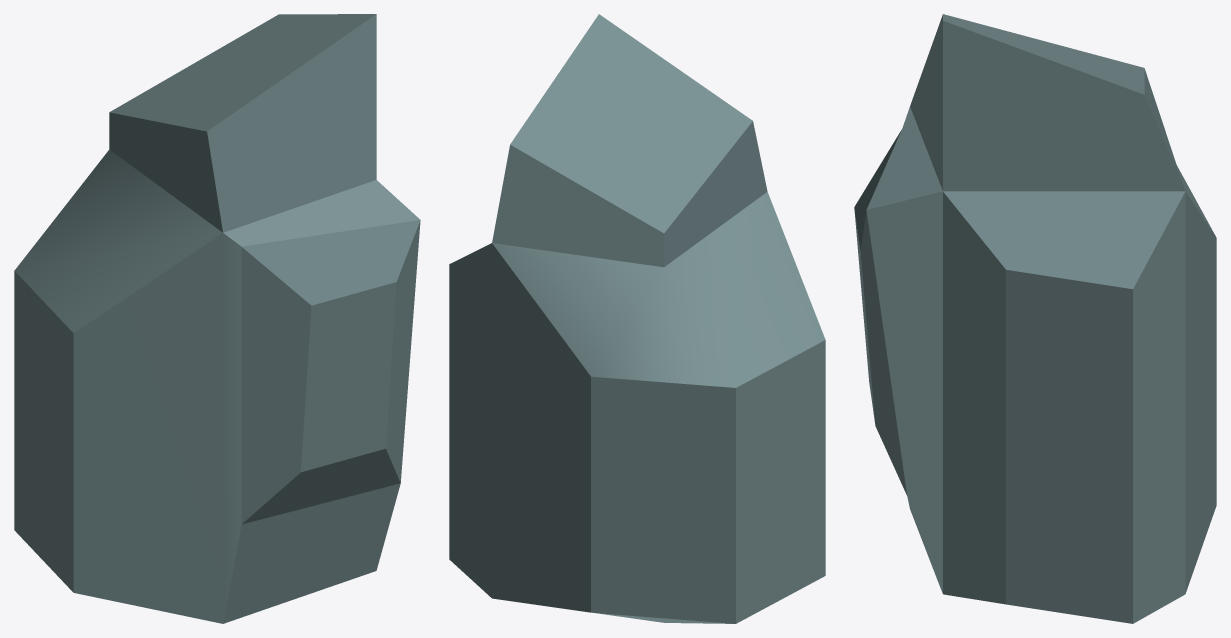
Rendered from rock2.fbx.
The picture shows the model from 3 angles, left to right: view 1: azimuth 30°, elevation 25°; view 2: azimuth 150°, elevation 25°; view 3: azimuth 270°, elevation 25°; orthographic projection. The views are drawn at different scales.
Visible parts, largest first — view 1: pCube1; view 2: pCube1; view 3: pCube1.
Boxes of the visible parts, x1,y1,x2,y2 form: pCube1: (14, 14, 420, 623); pCube1: (449, 14, 825, 623); pCube1: (854, 14, 1216, 623).
Bounding box in the file's own units: 8.22 × 12.55 × 7.19.
